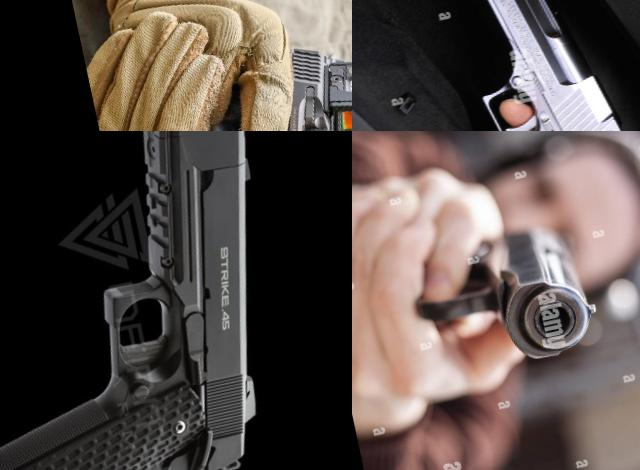handgun: (0, 131, 330, 470), (383, 210, 604, 390), (371, 0, 640, 131), (158, 28, 352, 131)
